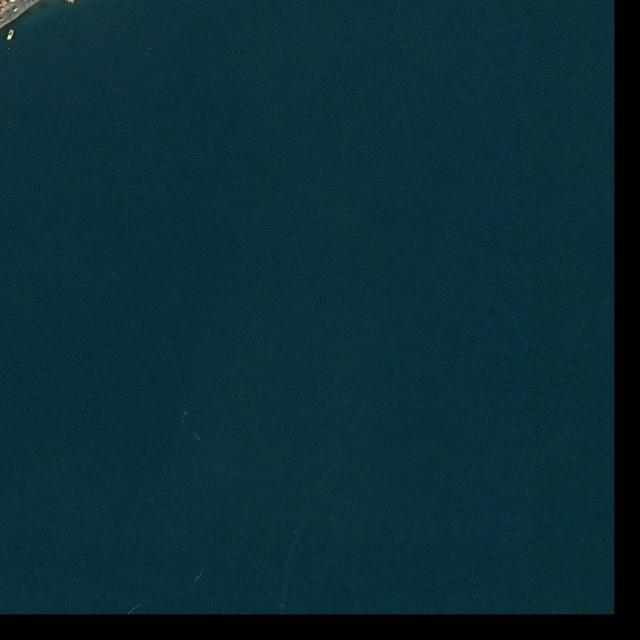ship: (6, 29, 15, 42)
